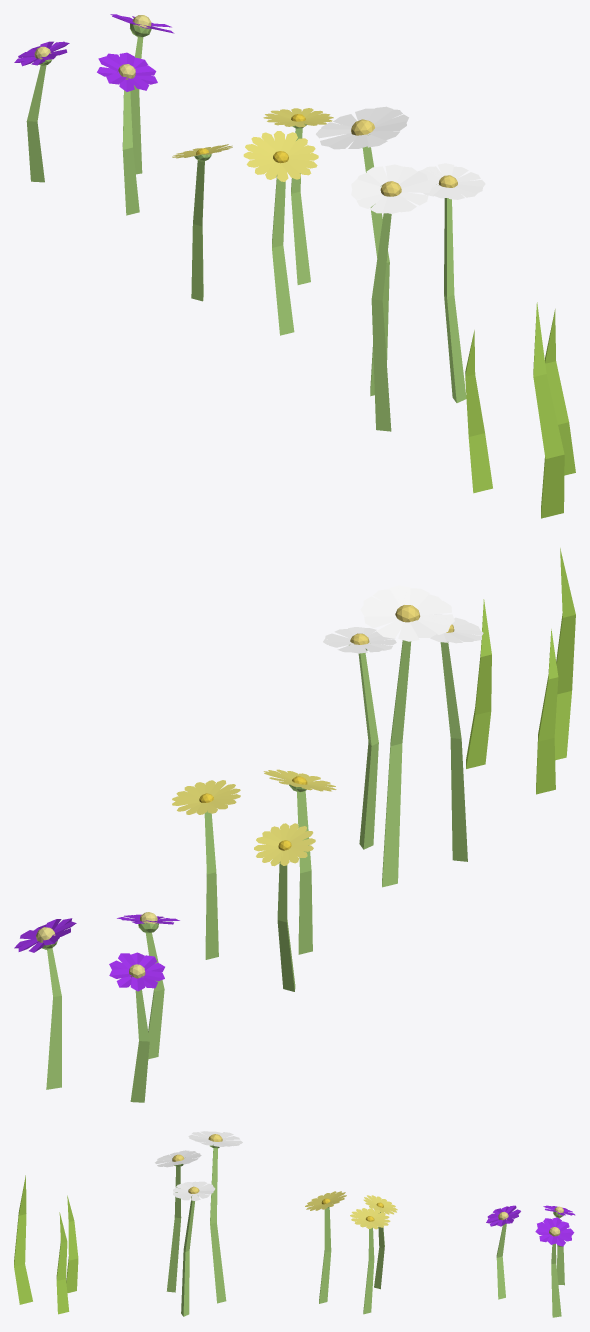
File: flowers_Small_01.fbx
The picture shows the model from 3 angles, top to bottom: view 1: azimuth 30°, elevation 25°; view 2: azimuth 150°, elevation 25°; view 3: azimuth 270°, elevation 25°; orthographic projection. The views are drawn at different scales.
Visible parts, largest first — view 1: Flower01, Flower02, Grass, Flower03; view 2: Flower01, Flower02, Flower03, Grass; view 3: Flower01, Flower02, Grass, Flower03.
Boxes of the visible parts, x1=… form: Flower01: x1=316, y1=106, x2=485, y2=431; Flower02: x1=172, y1=108, x2=333, y2=335; Grass: x1=465, y1=302, x2=575, y2=518; Flower03: x1=14, y1=14, x2=174, y2=215; Flower01: x1=323, y1=585, x2=483, y2=887; Flower02: x1=172, y1=769, x2=336, y2=991; Flower03: x1=14, y1=912, x2=179, y2=1102; Grass: x1=466, y1=548, x2=575, y2=794; Flower01: x1=155, y1=1131, x2=242, y2=1316; Flower02: x1=305, y1=1191, x2=397, y2=1314; Grass: x1=14, y1=1175, x2=78, y2=1314; Flower03: x1=486, y1=1205, x2=575, y2=1317.
Bounding box in the file's own units: 16.11 × 29.42 × 91.09.
